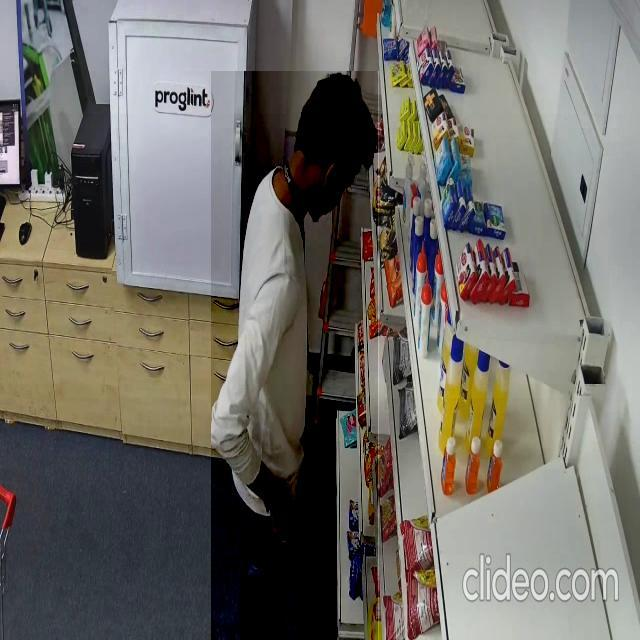Shoplifting: (212, 71, 380, 640)
